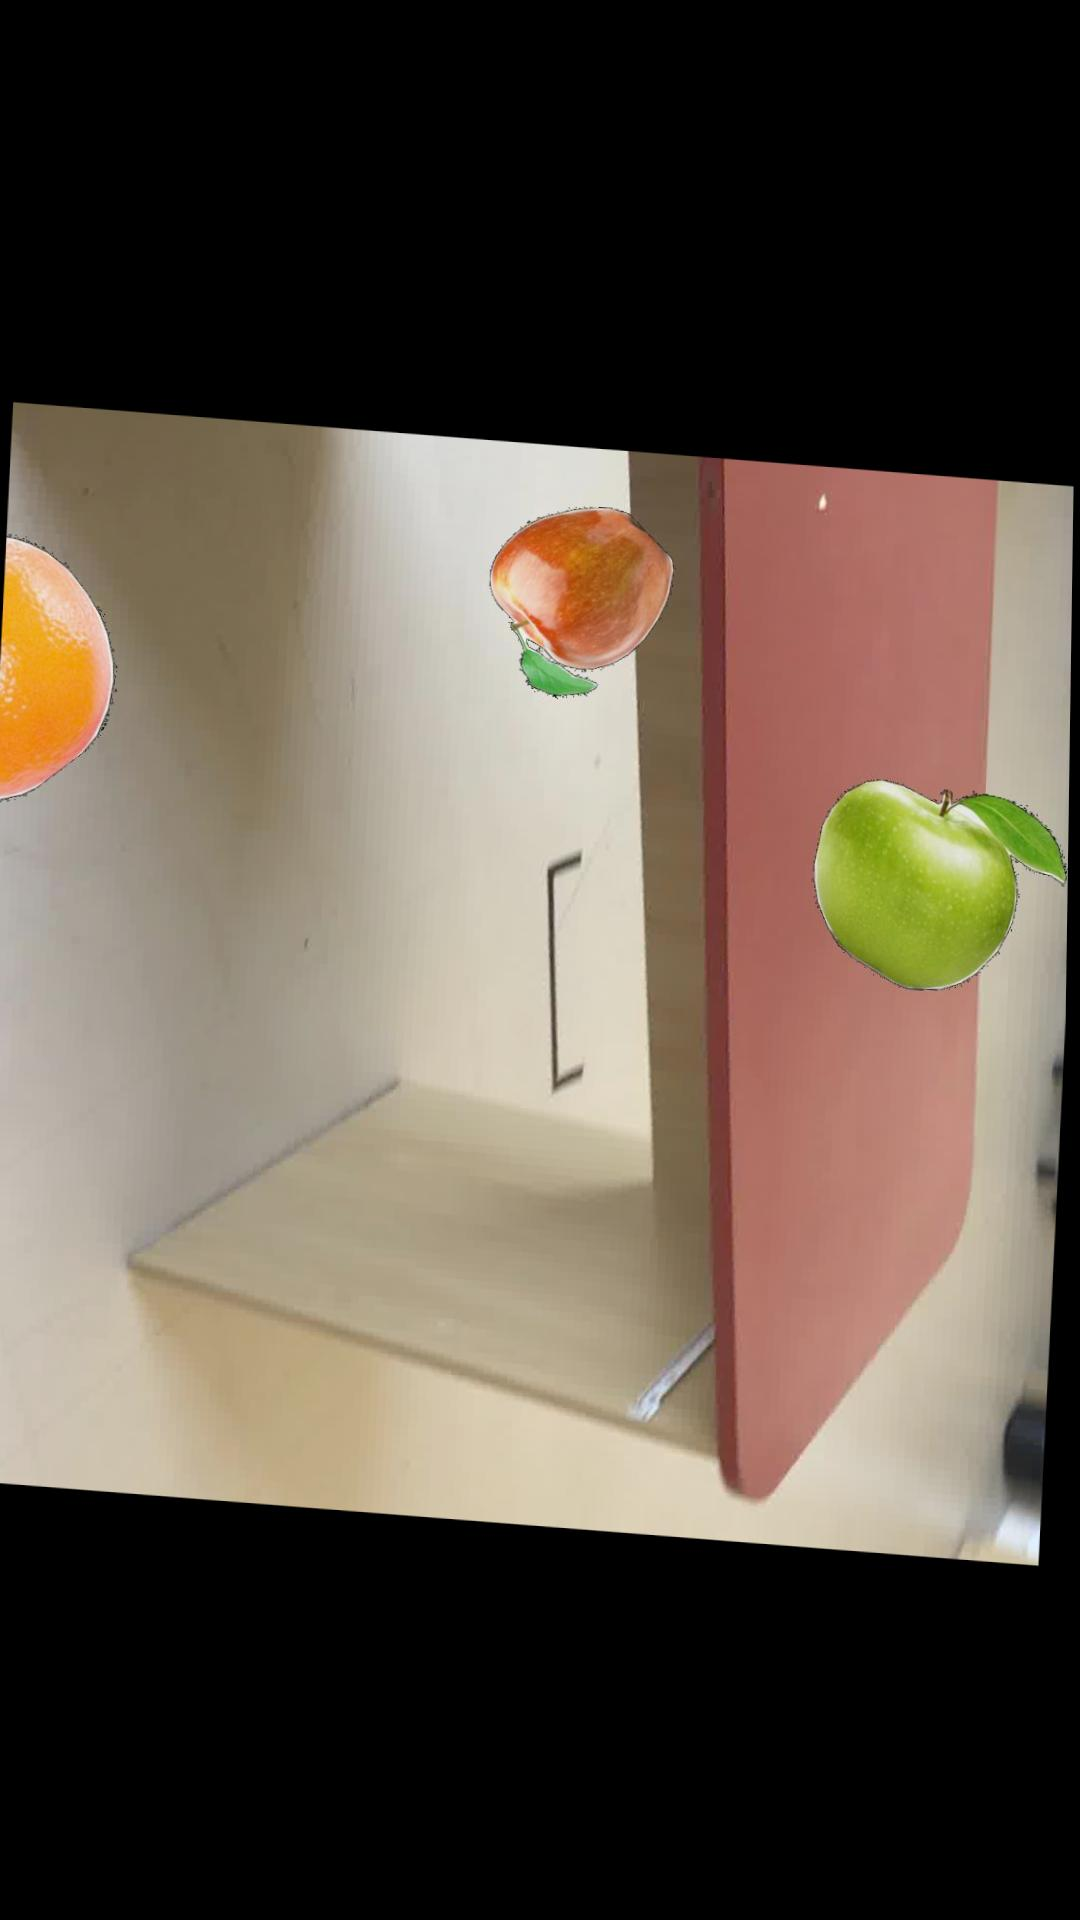apple: (492, 502, 676, 694)
green apple: (816, 773, 1069, 984)
orange: (0, 537, 117, 802)
